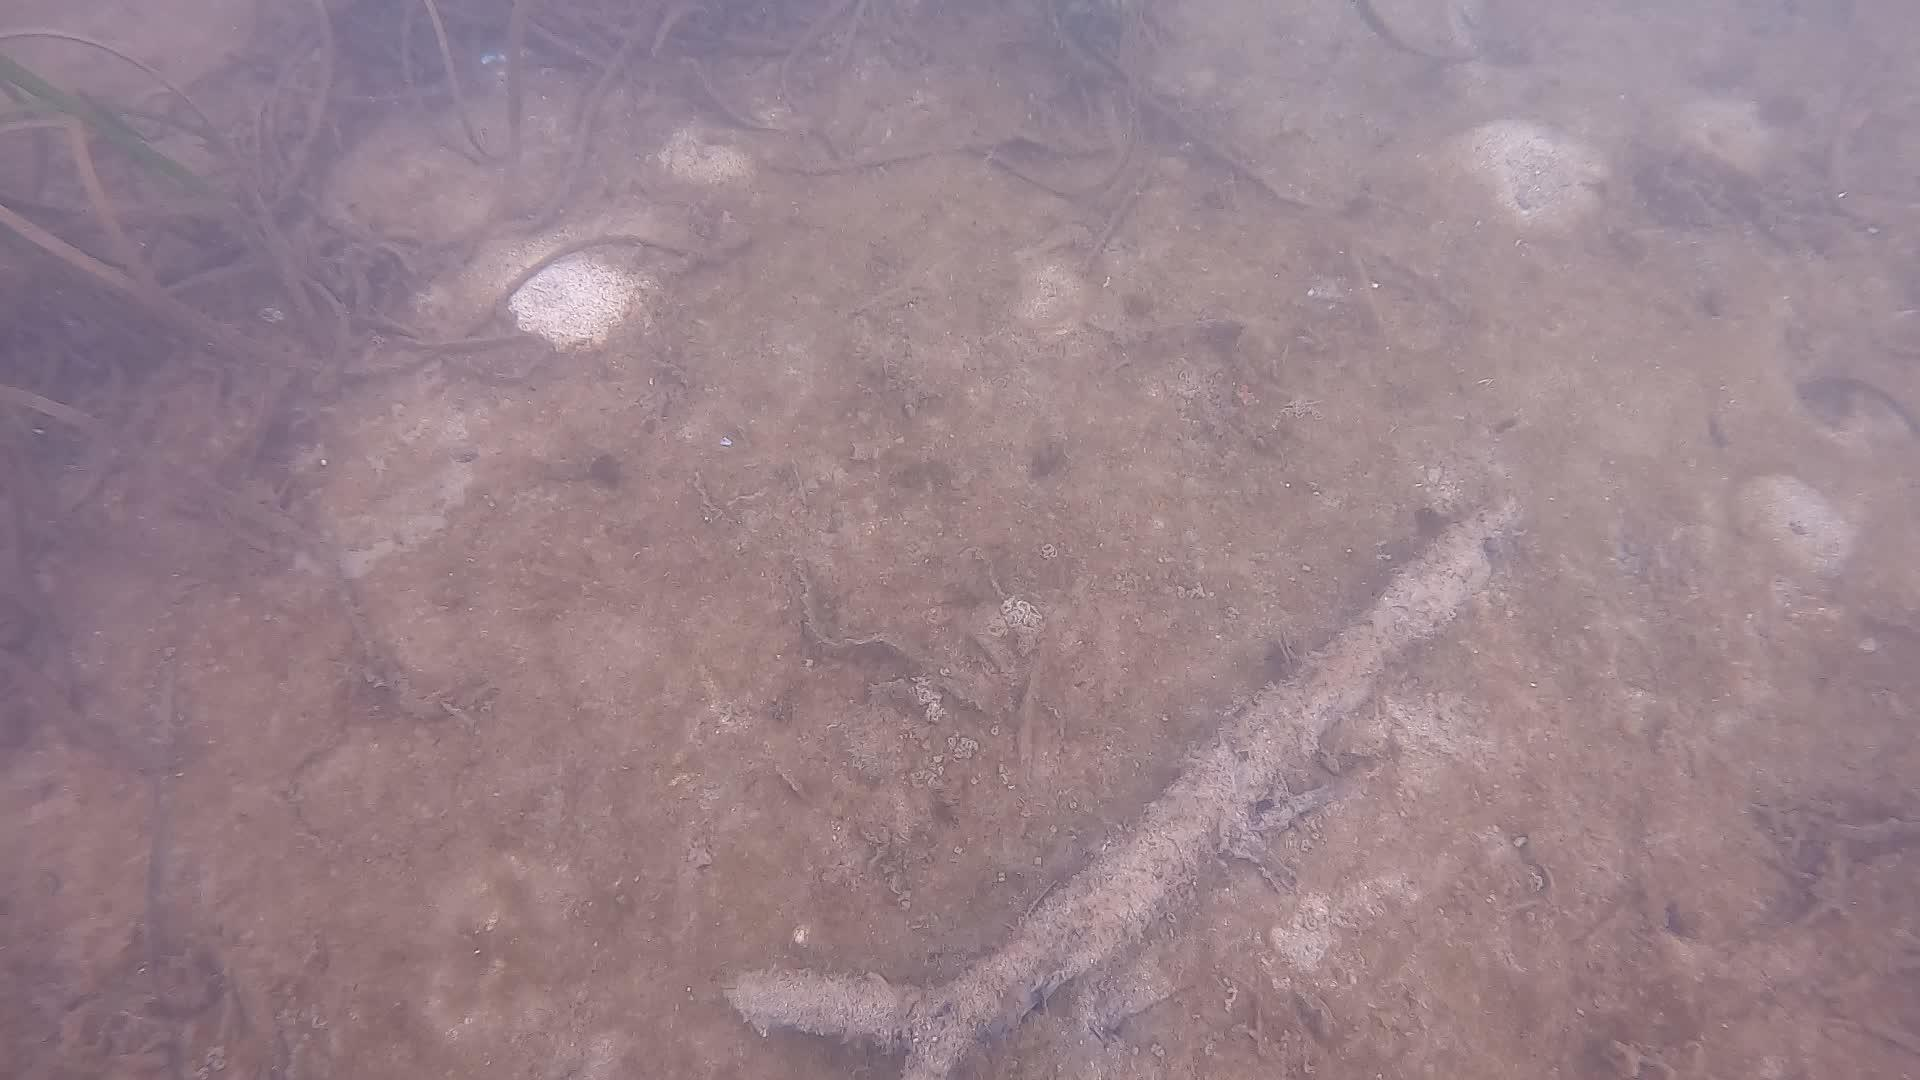wood: (731, 491, 1520, 1080)
